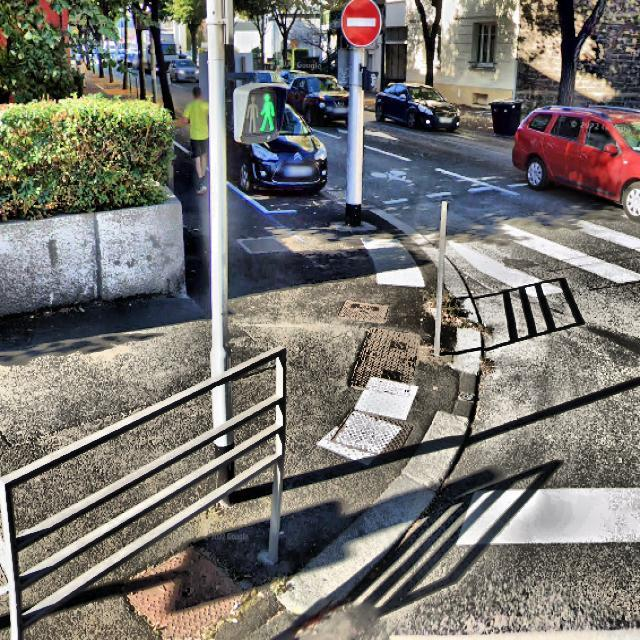green_light: (256, 90, 276, 134)
